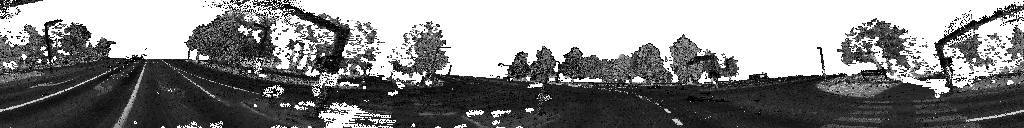gantry_sign_pole: (214, 0, 349, 118), (934, 3, 1023, 91), (689, 53, 718, 83)
light_pole: (421, 48, 450, 86), (44, 20, 62, 73), (251, 25, 267, 77), (817, 48, 826, 82), (360, 63, 370, 89), (726, 59, 731, 83)
traffic_pole: (535, 70, 552, 115), (260, 86, 285, 106)
